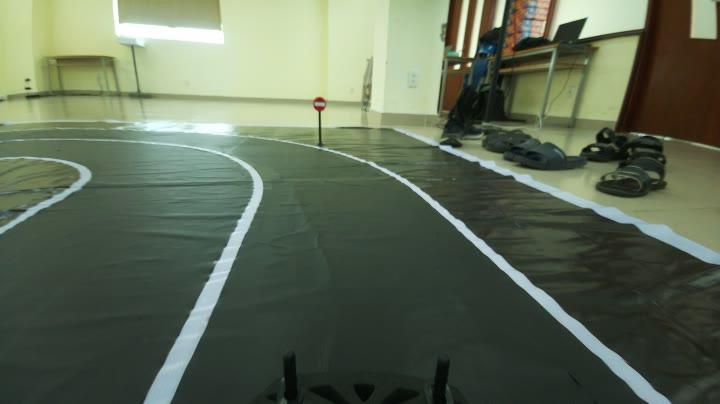no_entry: (308, 94, 330, 114)
